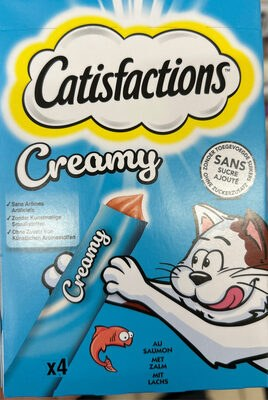Creamy Saumon: (13, 20, 255, 380)
